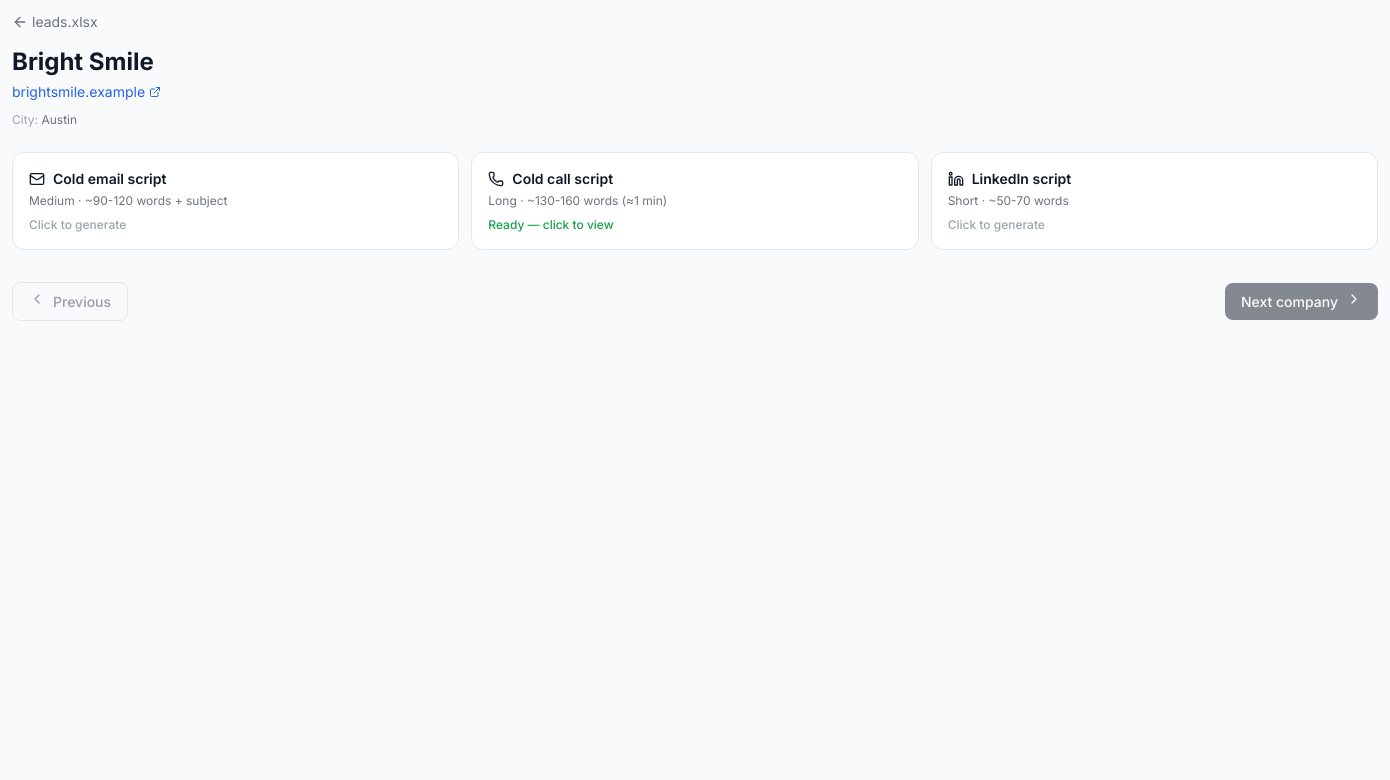
C — CompanyScripts › regenerate asks for a new script
The width and height of the screenshot is (1390, 780).
Click the button with test id "generate-cold_call" at (563, 179), box [471,152,919,250]
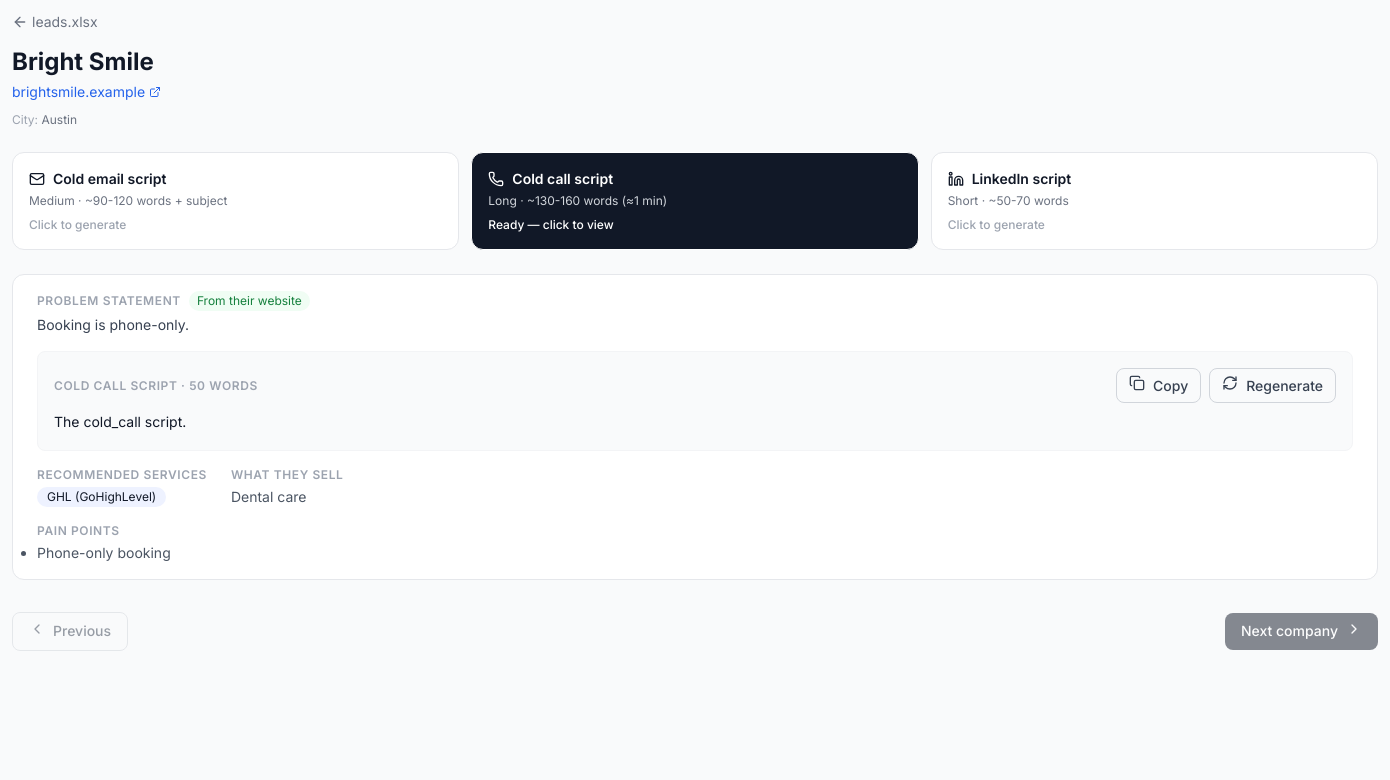
Click the button with test id "regenerate-script" at (1273, 386), box [1209,368,1336,403]
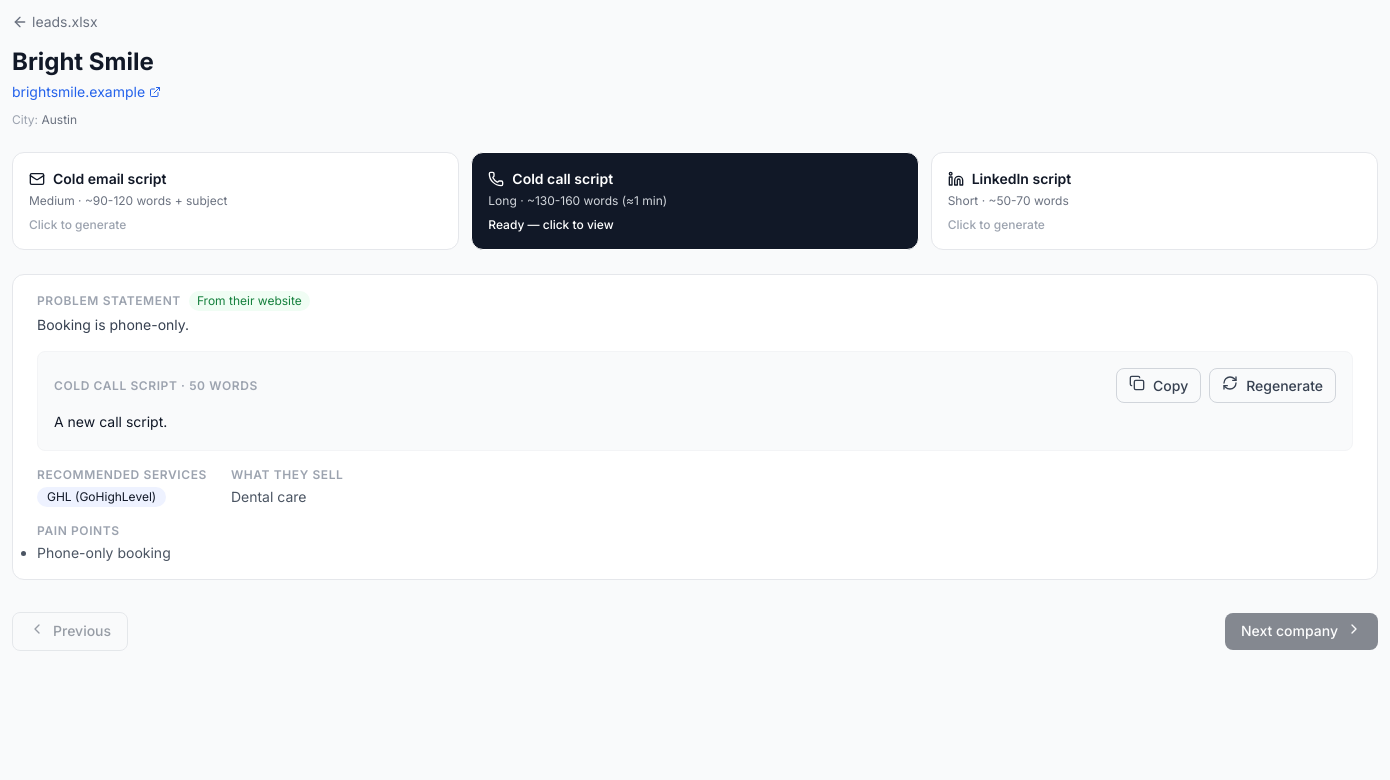
Check: the text with test id "script-text" reads "A new call script.", box [54,413,167,430]
